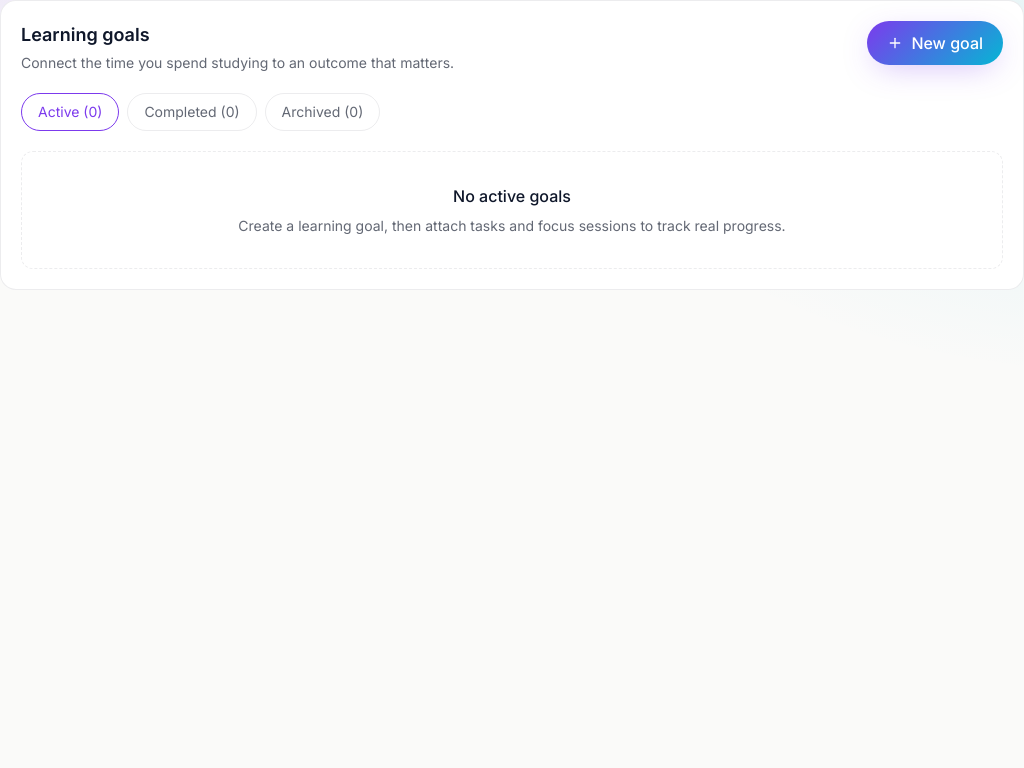
Test: study goal and planner forms › keeps save errors visible inside the open modal
Click the button "New goal".
click(935, 43)  # box left=867, top=21, right=1003, bottom=65
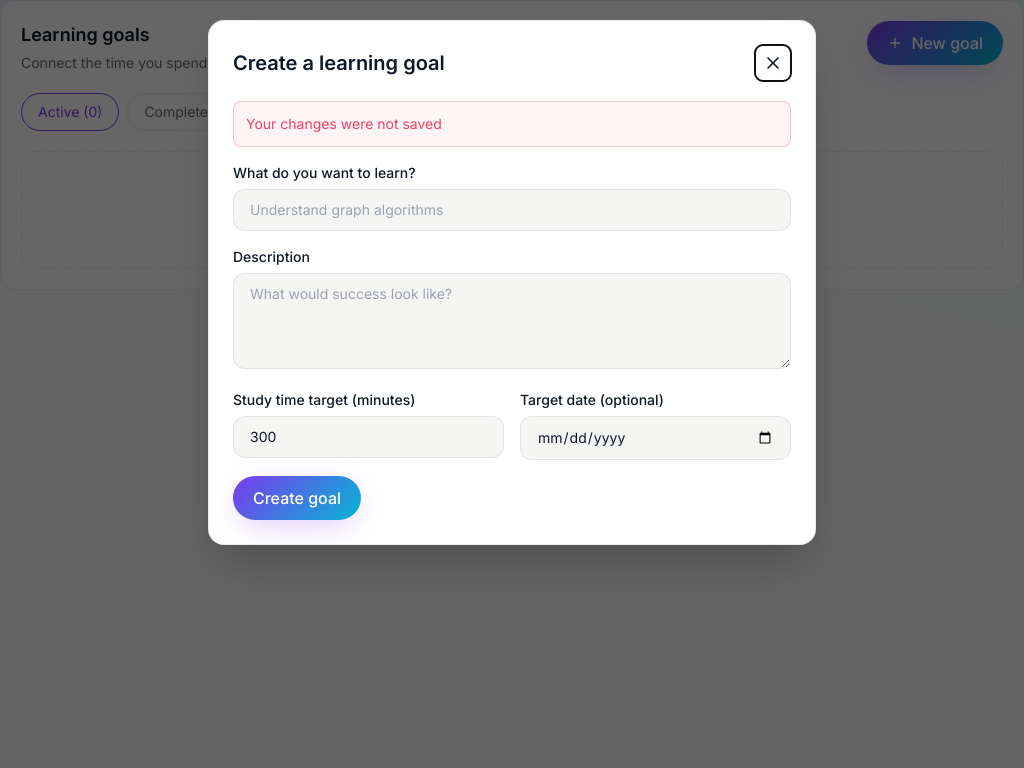
Expected: the message reads "Your changes were not saved", left=246, top=115, right=442, bottom=132
